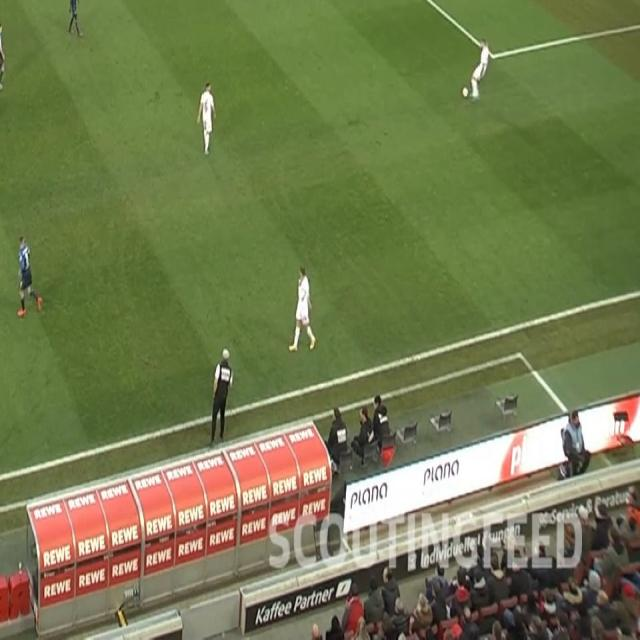ball: (461, 86, 469, 100)
